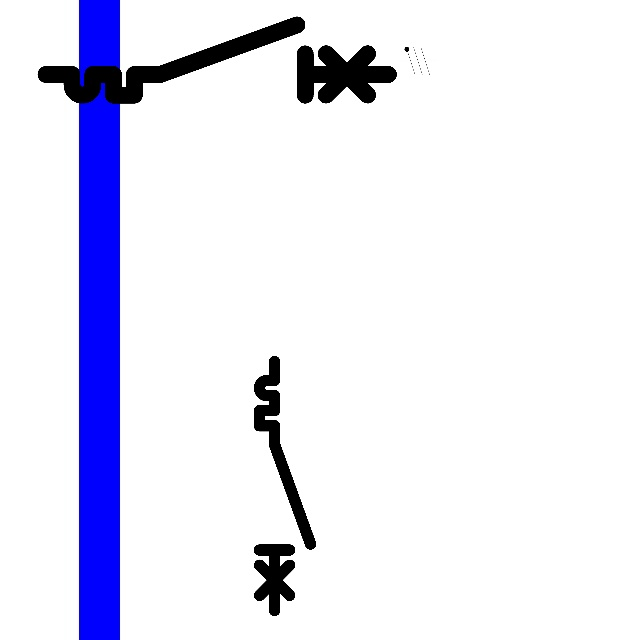interruptor_termomagnetico: (37, 16, 397, 104), (253, 355, 317, 617)
